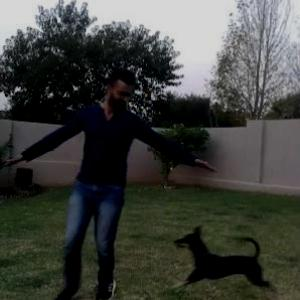land: (19, 72, 211, 284)
